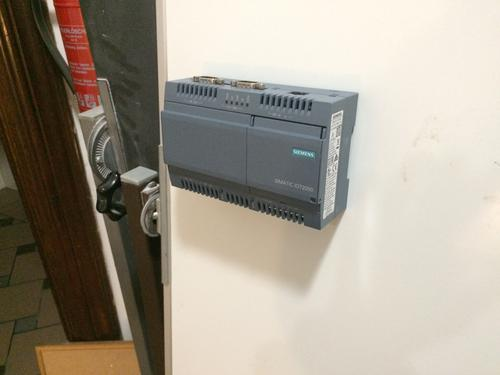iot2000: (160, 75, 360, 232)
